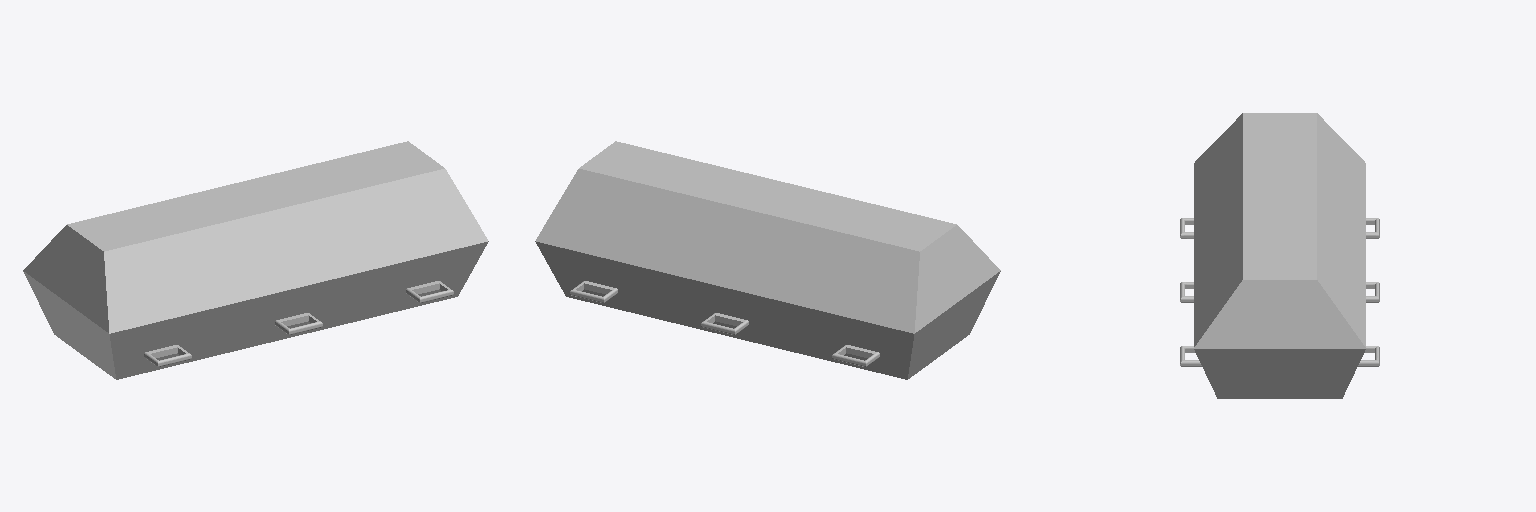
The model's file is separate-handles-2.obj.
The picture shows the model from 3 angles: view 1: azimuth 30°, elevation 25°; view 2: azimuth 150°, elevation 25°; view 3: azimuth 270°, elevation 25°; orthographic projection.
Visible parts, largest first — view 1: Body1, Body3, Body2, Body1:1; view 2: Body1, Body6, Body5, Body4; view 3: Body1.
Boxes of the visible parts, box(x1,y1,x2,y2) form: Body1: box(23, 141, 488, 379); Body3: box(406, 281, 453, 302); Body2: box(275, 313, 322, 334); Body1:1: box(144, 345, 191, 366); Body1: box(535, 141, 1000, 379); Body6: box(570, 281, 617, 302); Body5: box(701, 313, 748, 334); Body4: box(832, 345, 879, 366); Body1: box(1194, 113, 1365, 398).
Size of the model in its own units: 2000 by 600 by 908.